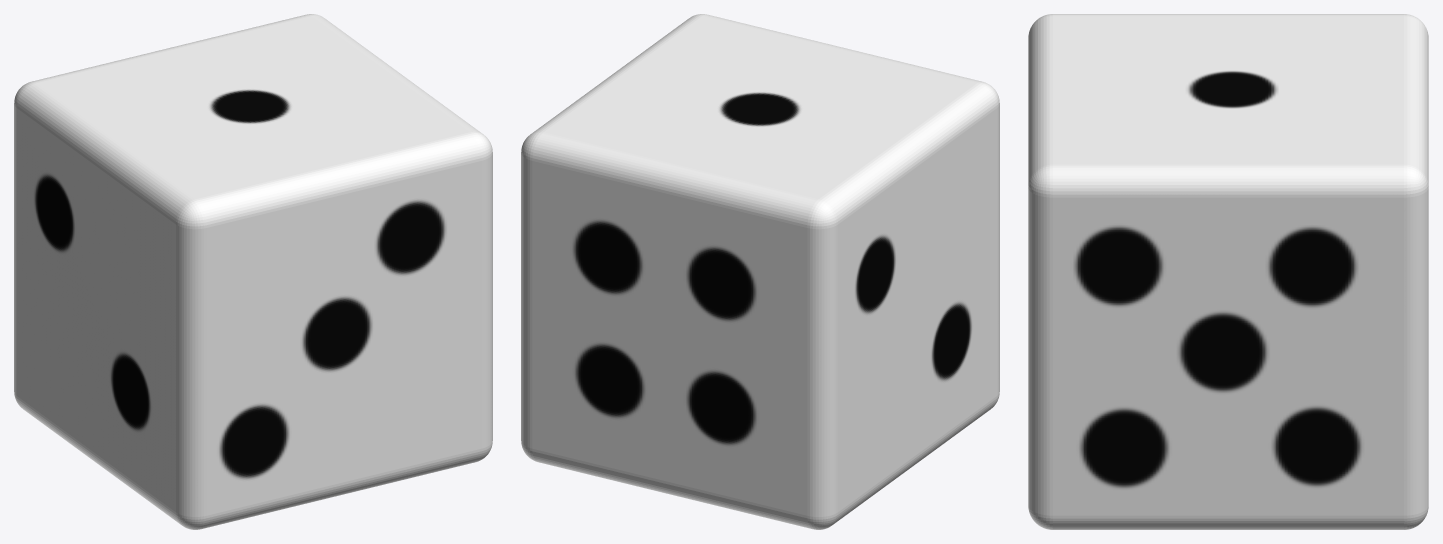
File: die.glb
3 views of the same model, side by side, from view 1: azimuth 30°, elevation 25°; view 2: azimuth 150°, elevation 25°; view 3: azimuth 270°, elevation 25° (orthographic). The views are drawn at different scales.
Visible parts, largest first — view 1: Cube; view 2: Cube; view 3: Cube.
Part boxes in pixels (box(x1,y1,x2,y2)): Cube: box(14, 14, 492, 529); Cube: box(521, 14, 999, 529); Cube: box(1028, 14, 1428, 529).
Size of the model in its own units: 2 by 2 by 2.
Materials: 1 (1 with a texture image).
